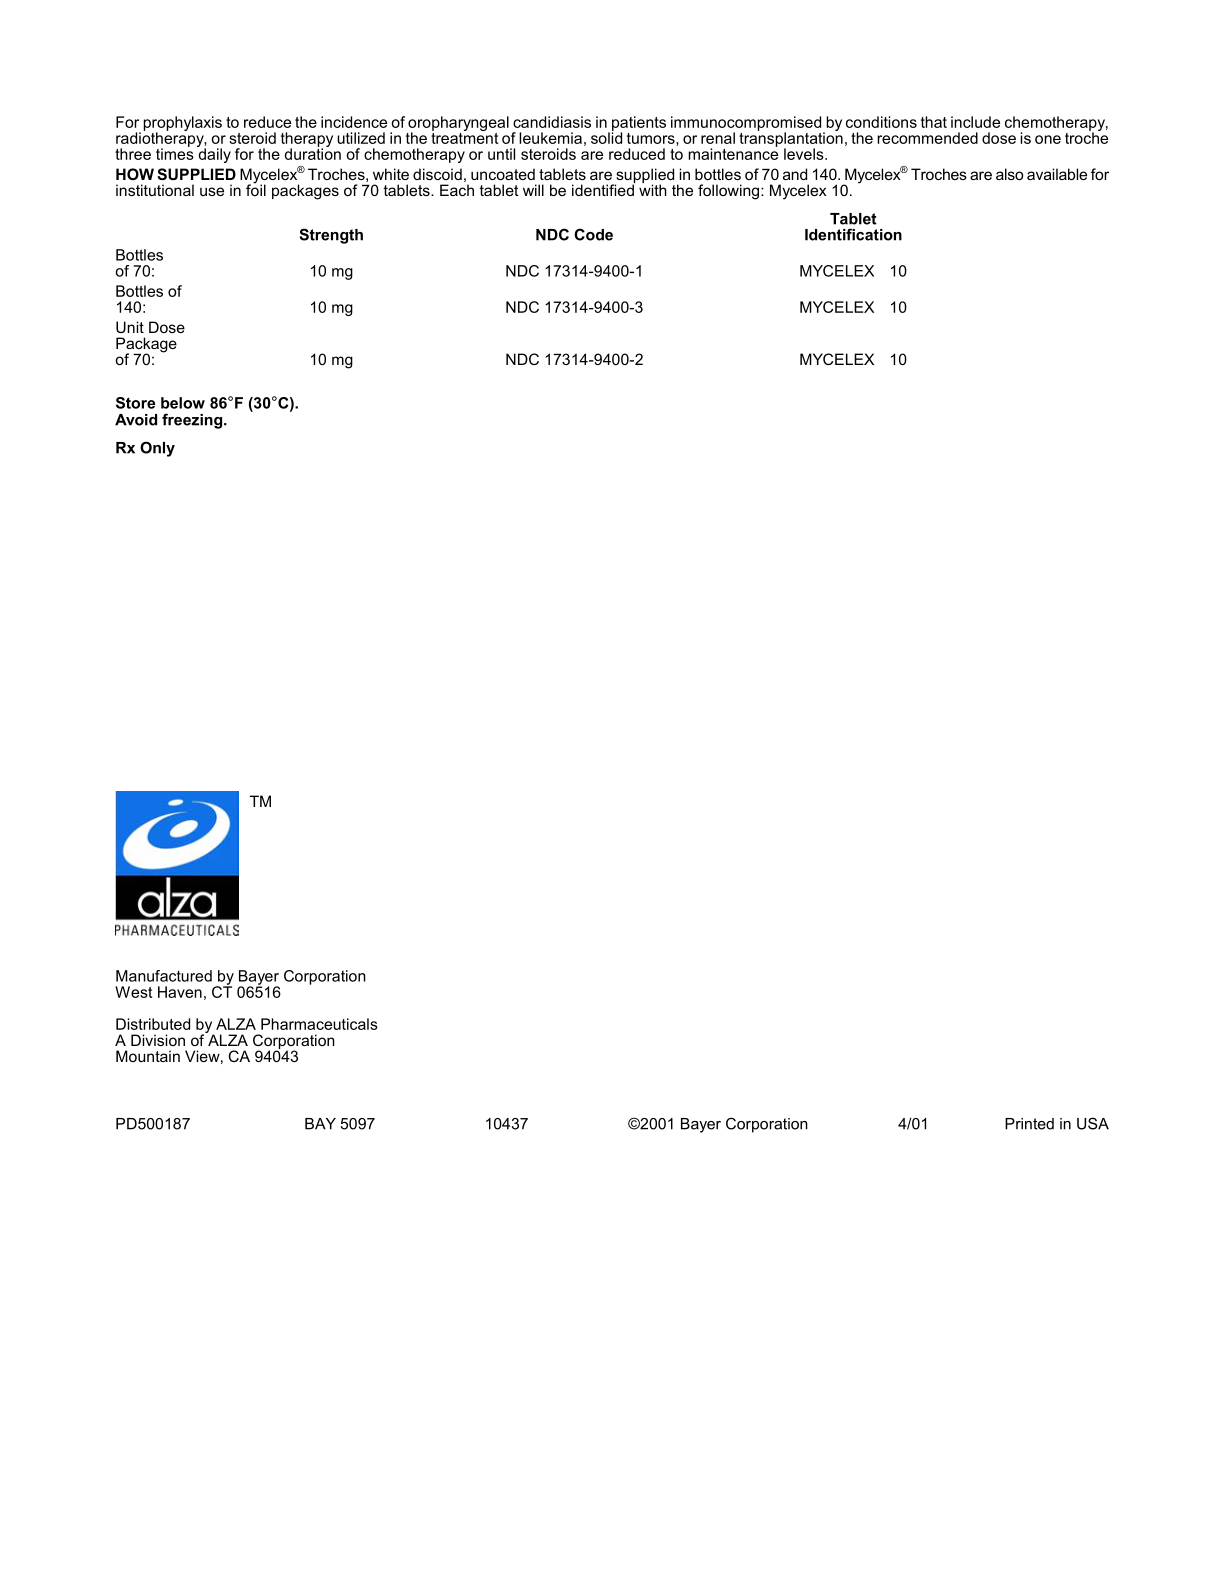nolines: (105, 207, 917, 374), (111, 1106, 1117, 1138)
